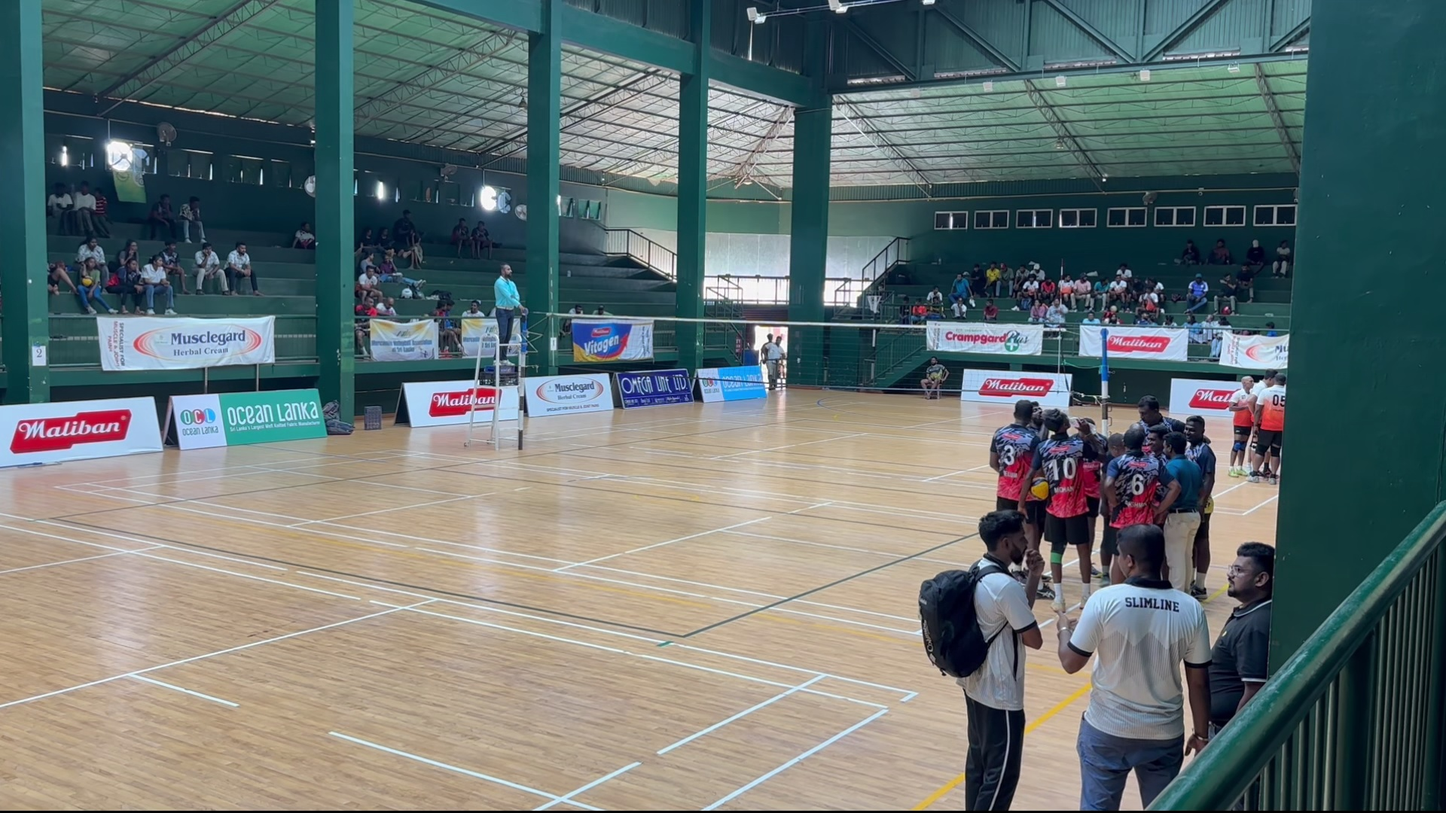Ball: (493, 259, 529, 363)
Payer_B: (1045, 411, 1104, 595), (990, 400, 1044, 576), (1007, 397, 1049, 574), (1020, 403, 1059, 593), (1072, 413, 1108, 588), (1101, 434, 1142, 577), (1129, 434, 1165, 575)
